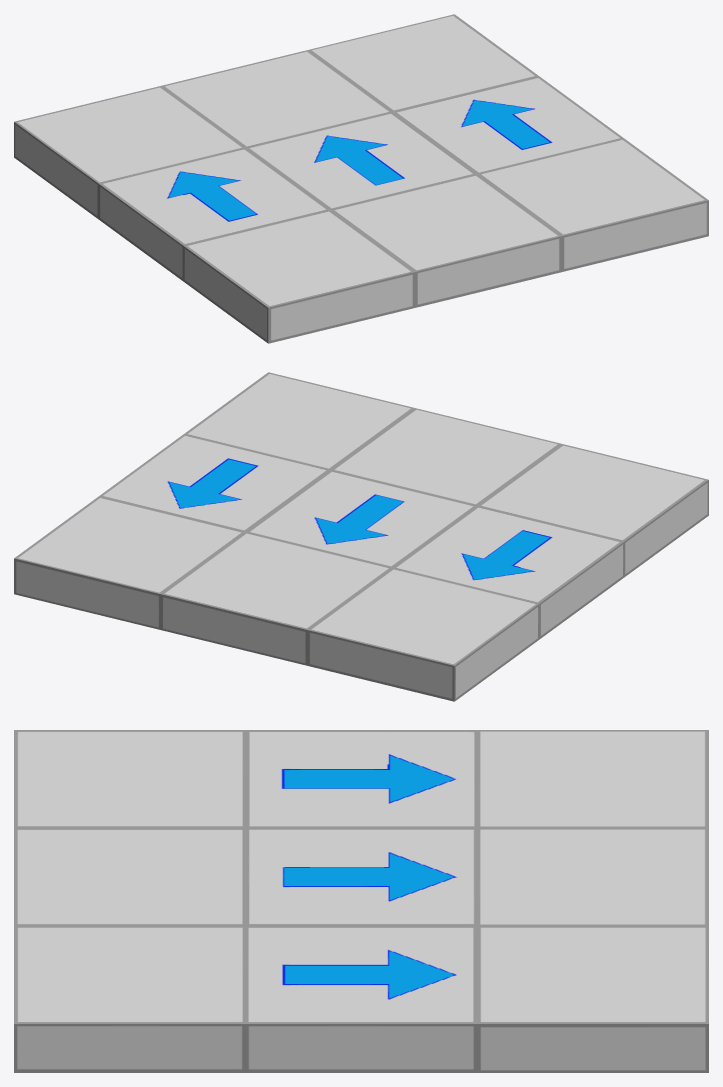
The model's file is boost besar.fbx.
The picture shows the model from 3 angles, top to bottom: view 1: azimuth 30°, elevation 25°; view 2: azimuth 150°, elevation 25°; view 3: azimuth 270°, elevation 25°; orthographic projection. The views are drawn at different scales.
Parts seen in each view (by area): view 1: jalan besar boost; view 2: jalan besar boost; view 3: jalan besar boost.
Part boxes in pixels (x1=…): jalan besar boost: x1=14, y1=14, x2=708, y2=343; jalan besar boost: x1=14, y1=372, x2=708, y2=701; jalan besar boost: x1=14, y1=730, x2=708, y2=1072.
Size of the model in its own units: 900 by 70 by 900.
1 material, 1 textured.
